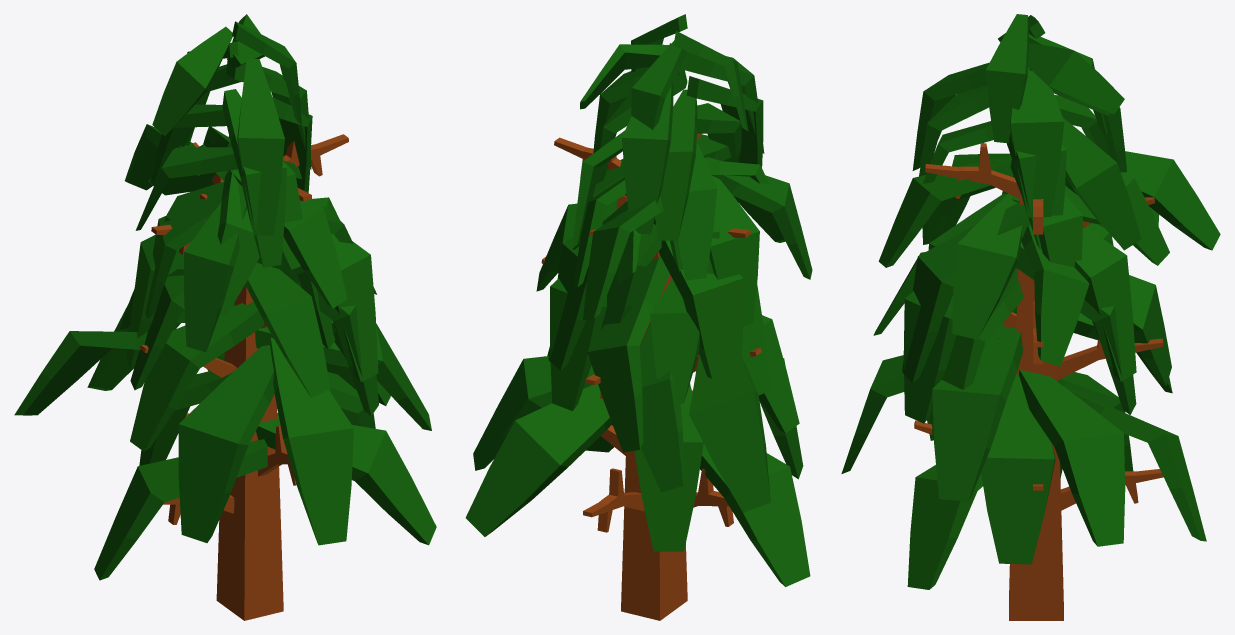
Rendered from tree-1.glb.
The picture shows the model from 3 angles, left to right: view 1: azimuth 30°, elevation 25°; view 2: azimuth 150°, elevation 25°; view 3: azimuth 270°, elevation 25°; orthographic projection.
Parts seen in each view (by area): view 1: 立方体.006, 立方体.001, Cube.003; view 2: 立方体.006, 立方体.001, Cube.003; view 3: 立方体.006, 立方体.001, Cube.003.
Boxes of the visible parts, x1,y1,x2,y2 form: 立方体.006: (14,144,436,580); 立方体.001: (119,14,376,397); Cube.003: (140,134,348,620); 立方体.006: (465,159,810,586); 立方体.001: (536,14,812,403); Cube.003: (541,133,761,620); 立方体.006: (841,153,1206,589); 立方体.001: (873,14,1220,366); Cube.003: (914,142,1163,620).
Size of the model in its own units: 9.87 by 17.07 by 10.
